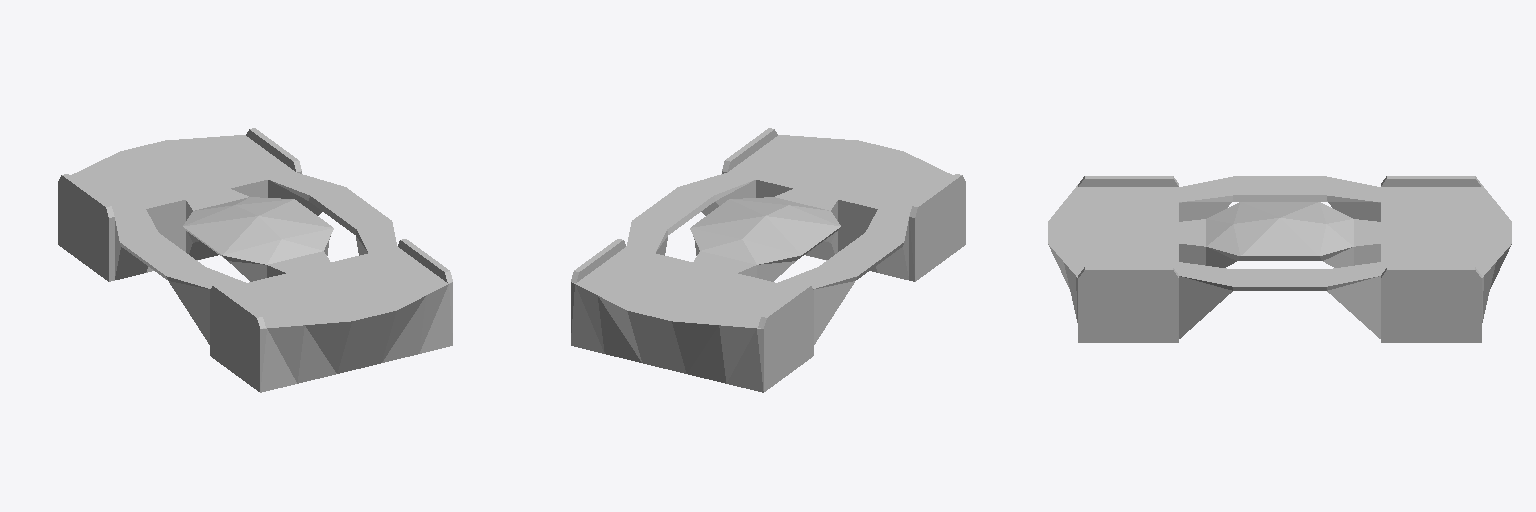
Rendered from CTFMap1.obj.
The picture shows the model from 3 angles: view 1: azimuth 30°, elevation 25°; view 2: azimuth 150°, elevation 25°; view 3: azimuth 270°, elevation 25°; orthographic projection.
Visible parts, largest first — view 1: polySurface1; view 2: polySurface1; view 3: polySurface1.
Boxes of the visible parts, <box> form: polySurface1: <box>58,128,452,392</box>; polySurface1: <box>571,128,965,392</box>; polySurface1: <box>1048,176,1511,342</box>.
Bounding box in the file's own units: 19.72 × 6.58 × 35.08.